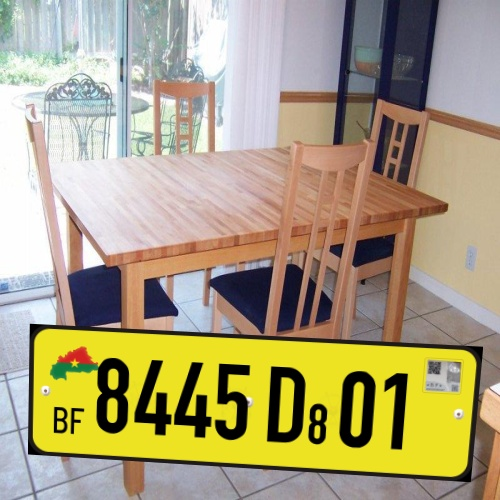plate: (15, 313, 487, 488)
